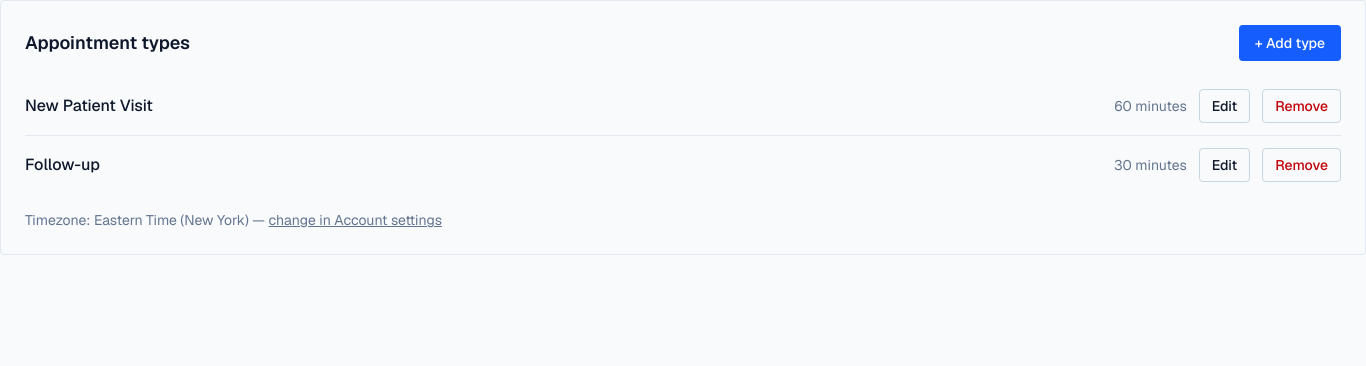
Test: AppointmentTypesSection › shows a specific message with the affected count when a slot-length change is refused (409)
Click the button with aria-label "Edit Follow-up appointment type".
click(1224, 165)  # box [1199,148,1250,182]
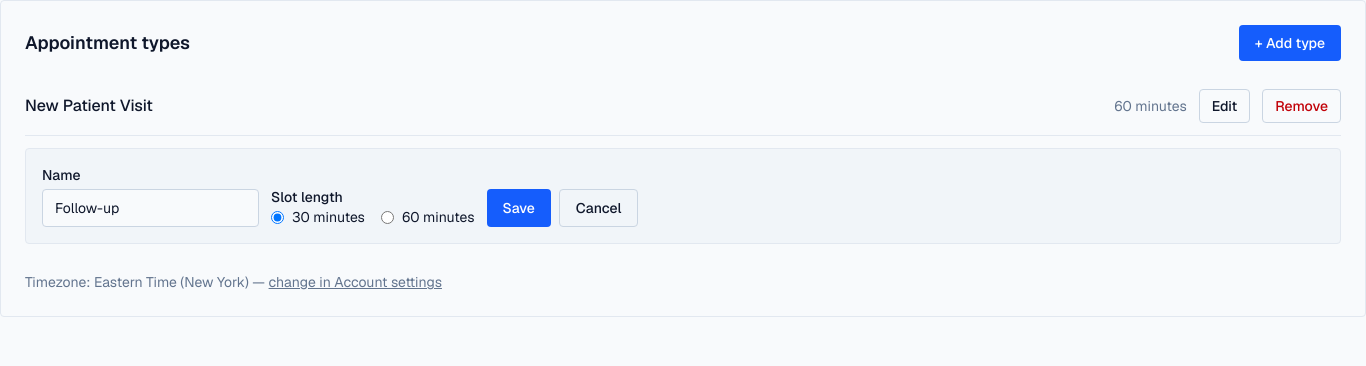
Click the radio button labelled "60 minutes".
click(387, 217)  # box [381,210,394,224]
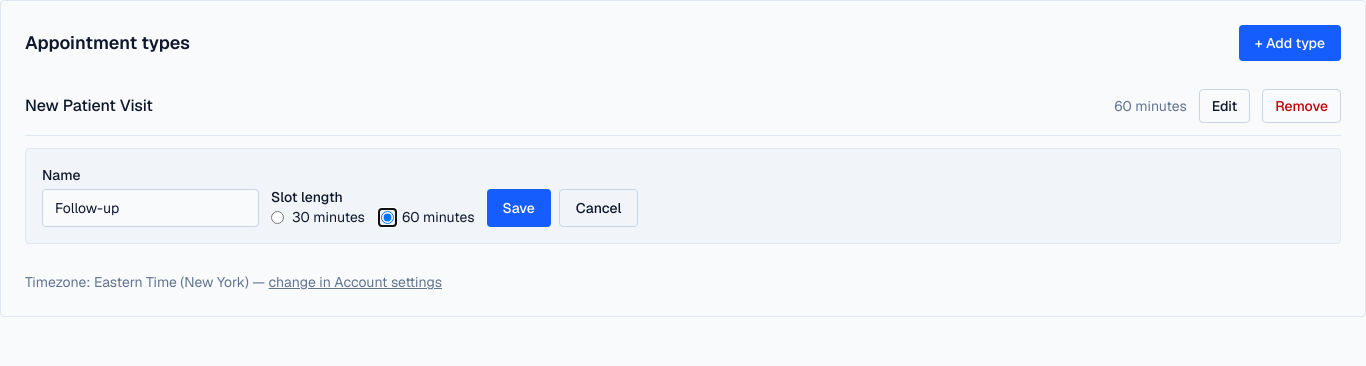
Click the button "Save".
click(519, 208)  # box [486,189,551,227]
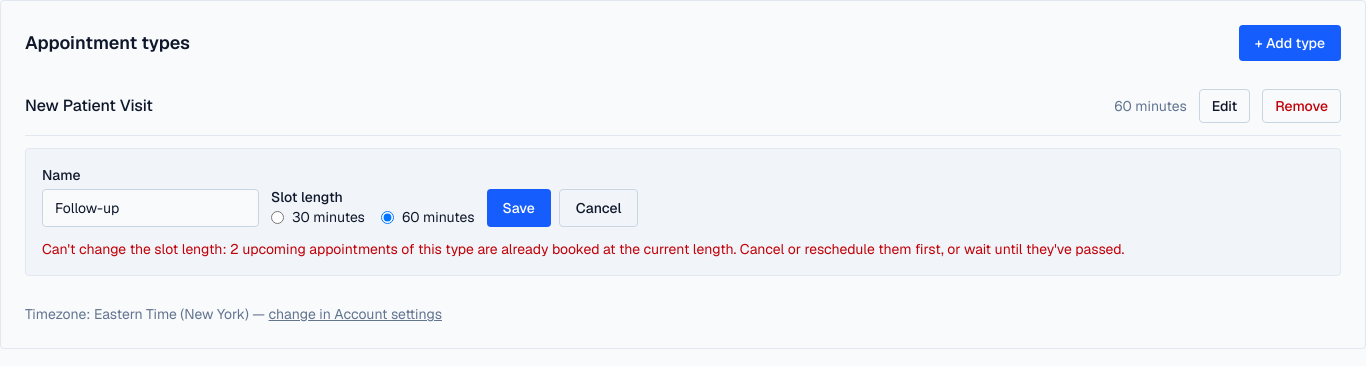
Expected: the button "Save" is shown, [486,189,551,227]
Expected: the message shows "Can't change the slot length: 2 upcoming appointments", [42,240,1124,258]
